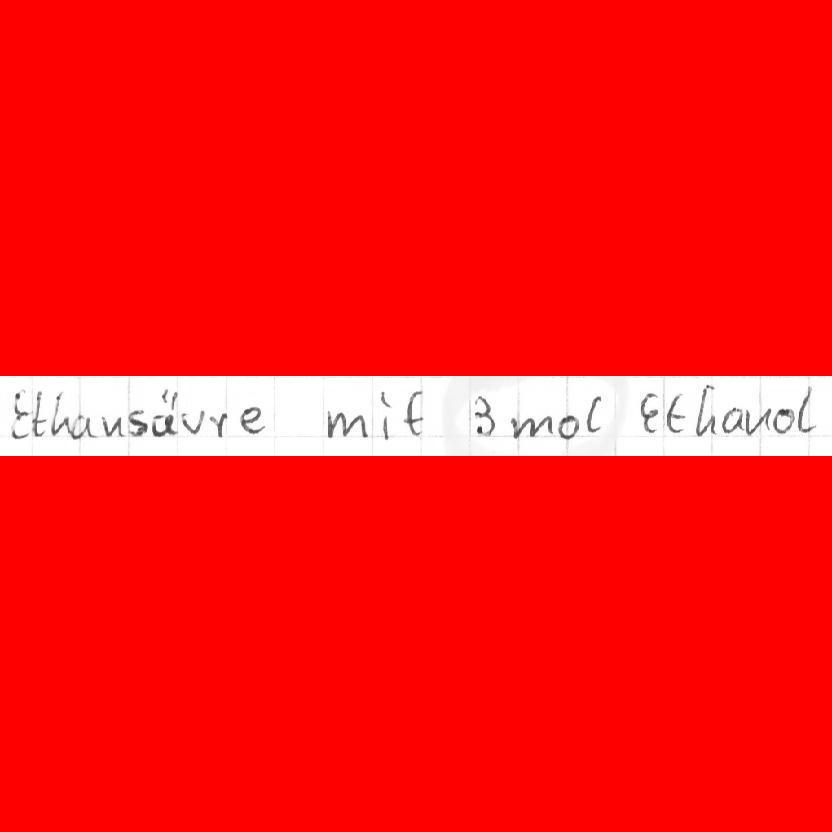Char: (325, 407, 372, 441), (690, 383, 718, 438), (149, 388, 179, 438), (48, 388, 73, 438), (400, 387, 425, 437), (8, 385, 30, 440), (471, 393, 497, 439), (509, 412, 554, 438), (796, 384, 819, 434), (375, 387, 395, 440), (742, 403, 773, 437), (663, 390, 686, 434), (639, 389, 660, 434), (28, 390, 47, 439), (237, 406, 267, 434), (584, 392, 604, 434), (70, 412, 98, 439), (557, 410, 582, 440), (206, 410, 229, 442), (720, 404, 745, 433), (772, 406, 797, 435), (182, 407, 206, 435), (126, 408, 149, 437), (99, 412, 124, 438)
